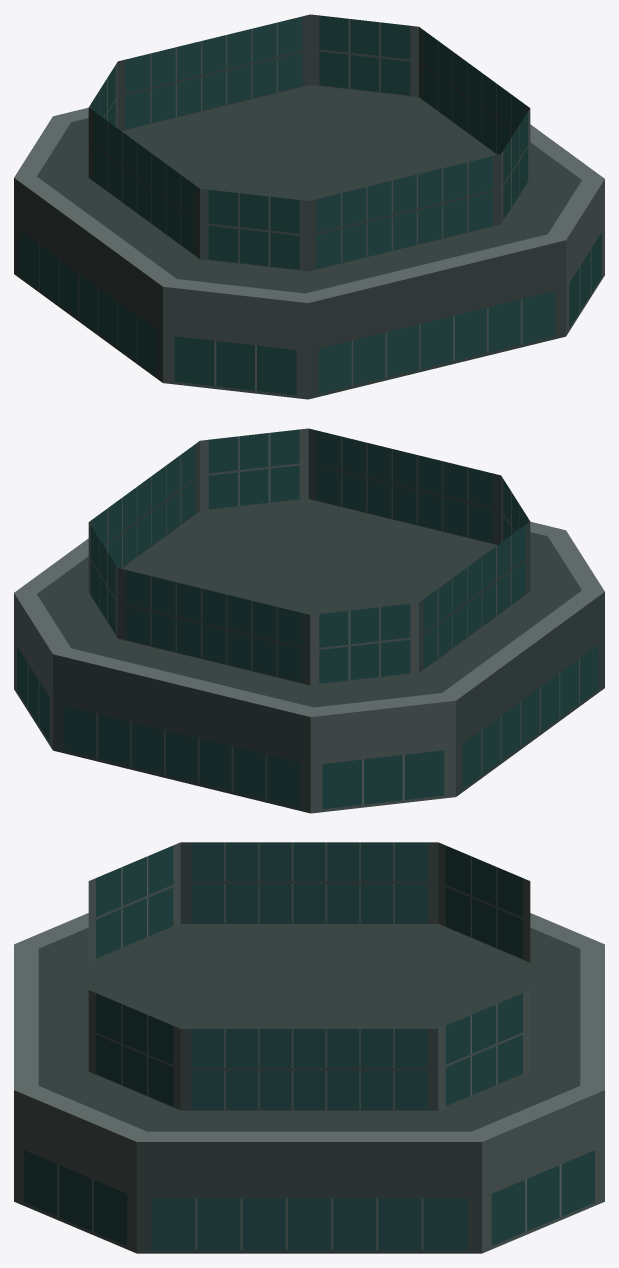
The model's file is TB_CITY_Skysc_R_Lower_Top_Green.FBX.
The picture shows the model from 3 angles, top to bottom: view 1: azimuth 30°, elevation 25°; view 2: azimuth 150°, elevation 25°; view 3: azimuth 270°, elevation 25°; orthographic projection. The views are drawn at different scales.
Visible parts, largest first — view 1: TB_CITY_Skysc_R_Lower_Top_Green; view 2: TB_CITY_Skysc_R_Lower_Top_Green; view 3: TB_CITY_Skysc_R_Lower_Top_Green.
Part boxes in pixels (left/top/right/bottom): TB_CITY_Skysc_R_Lower_Top_Green: left=14, top=14, right=604, bottom=399; TB_CITY_Skysc_R_Lower_Top_Green: left=14, top=428, right=604, bottom=813; TB_CITY_Skysc_R_Lower_Top_Green: left=14, top=842, right=604, bottom=1253.
Size of the model in its own units: 24 by 8.66 by 24.
